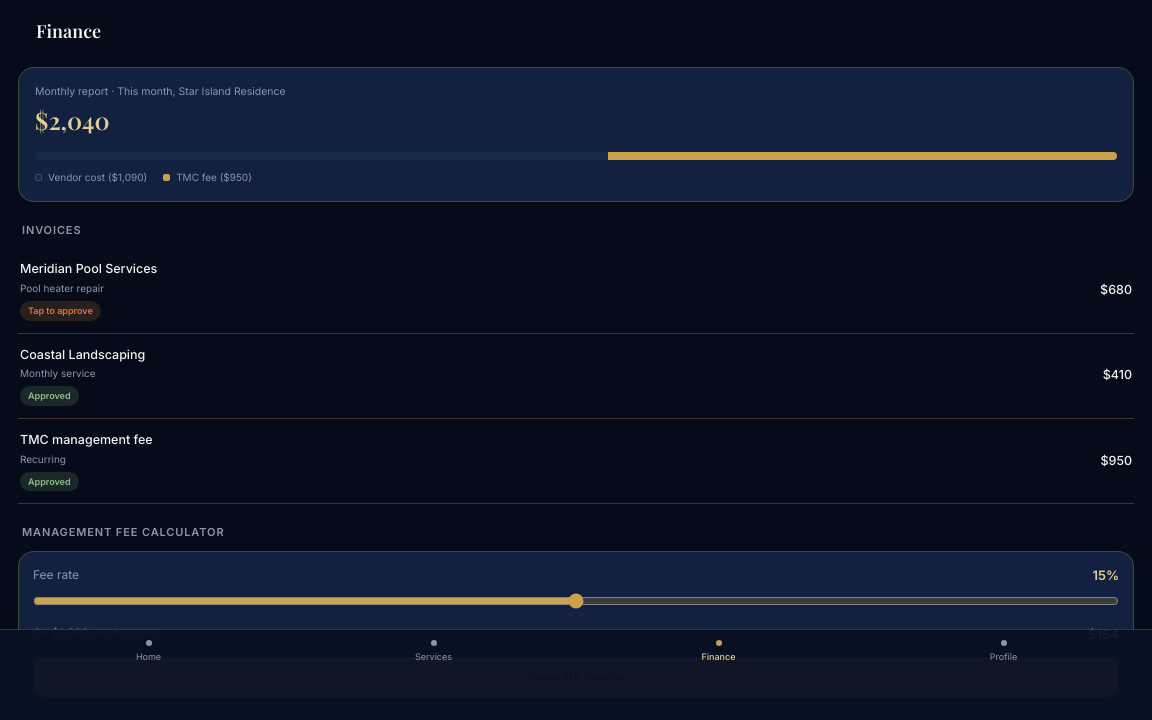
Test: Closing the 19-gap items: Owner Finance › fee calculator recomputes the amount when the rate slider changes
The image size is (1152, 720).
Set the slider to "20" at (1111, 601), box [33,593,1119,609]
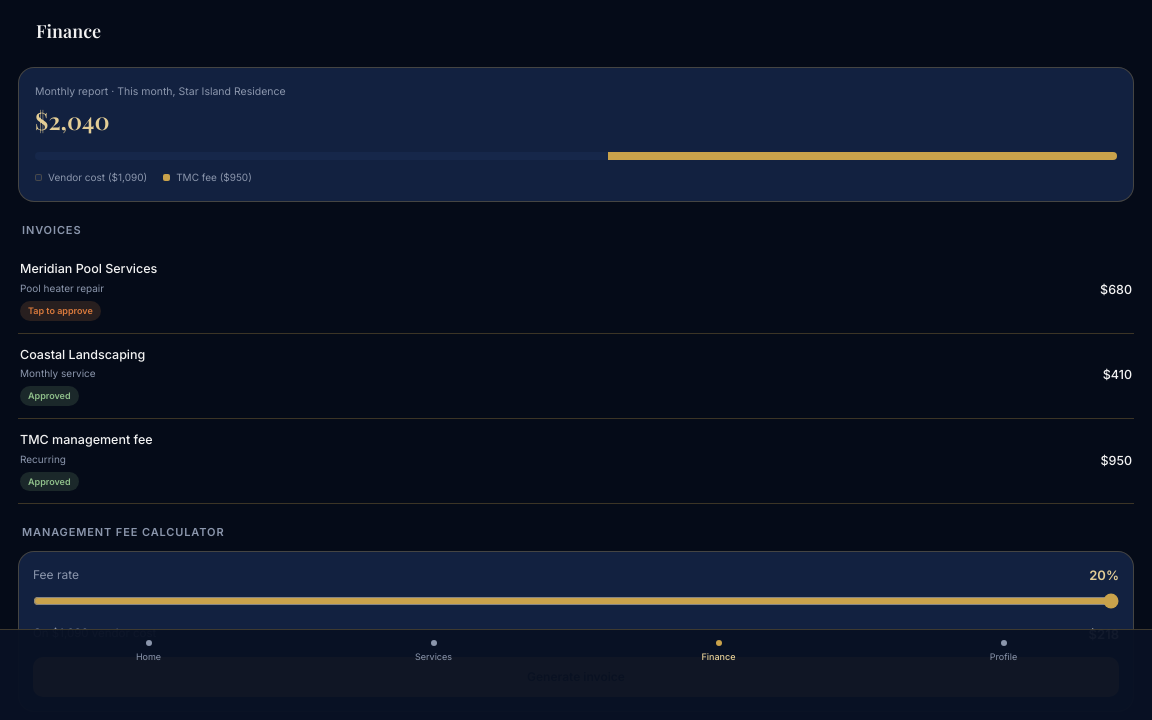
Result: the text "20%" is shown at [1089,566,1119,585]
